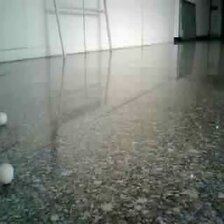w: (1, 163, 15, 186), (1, 111, 9, 126)
